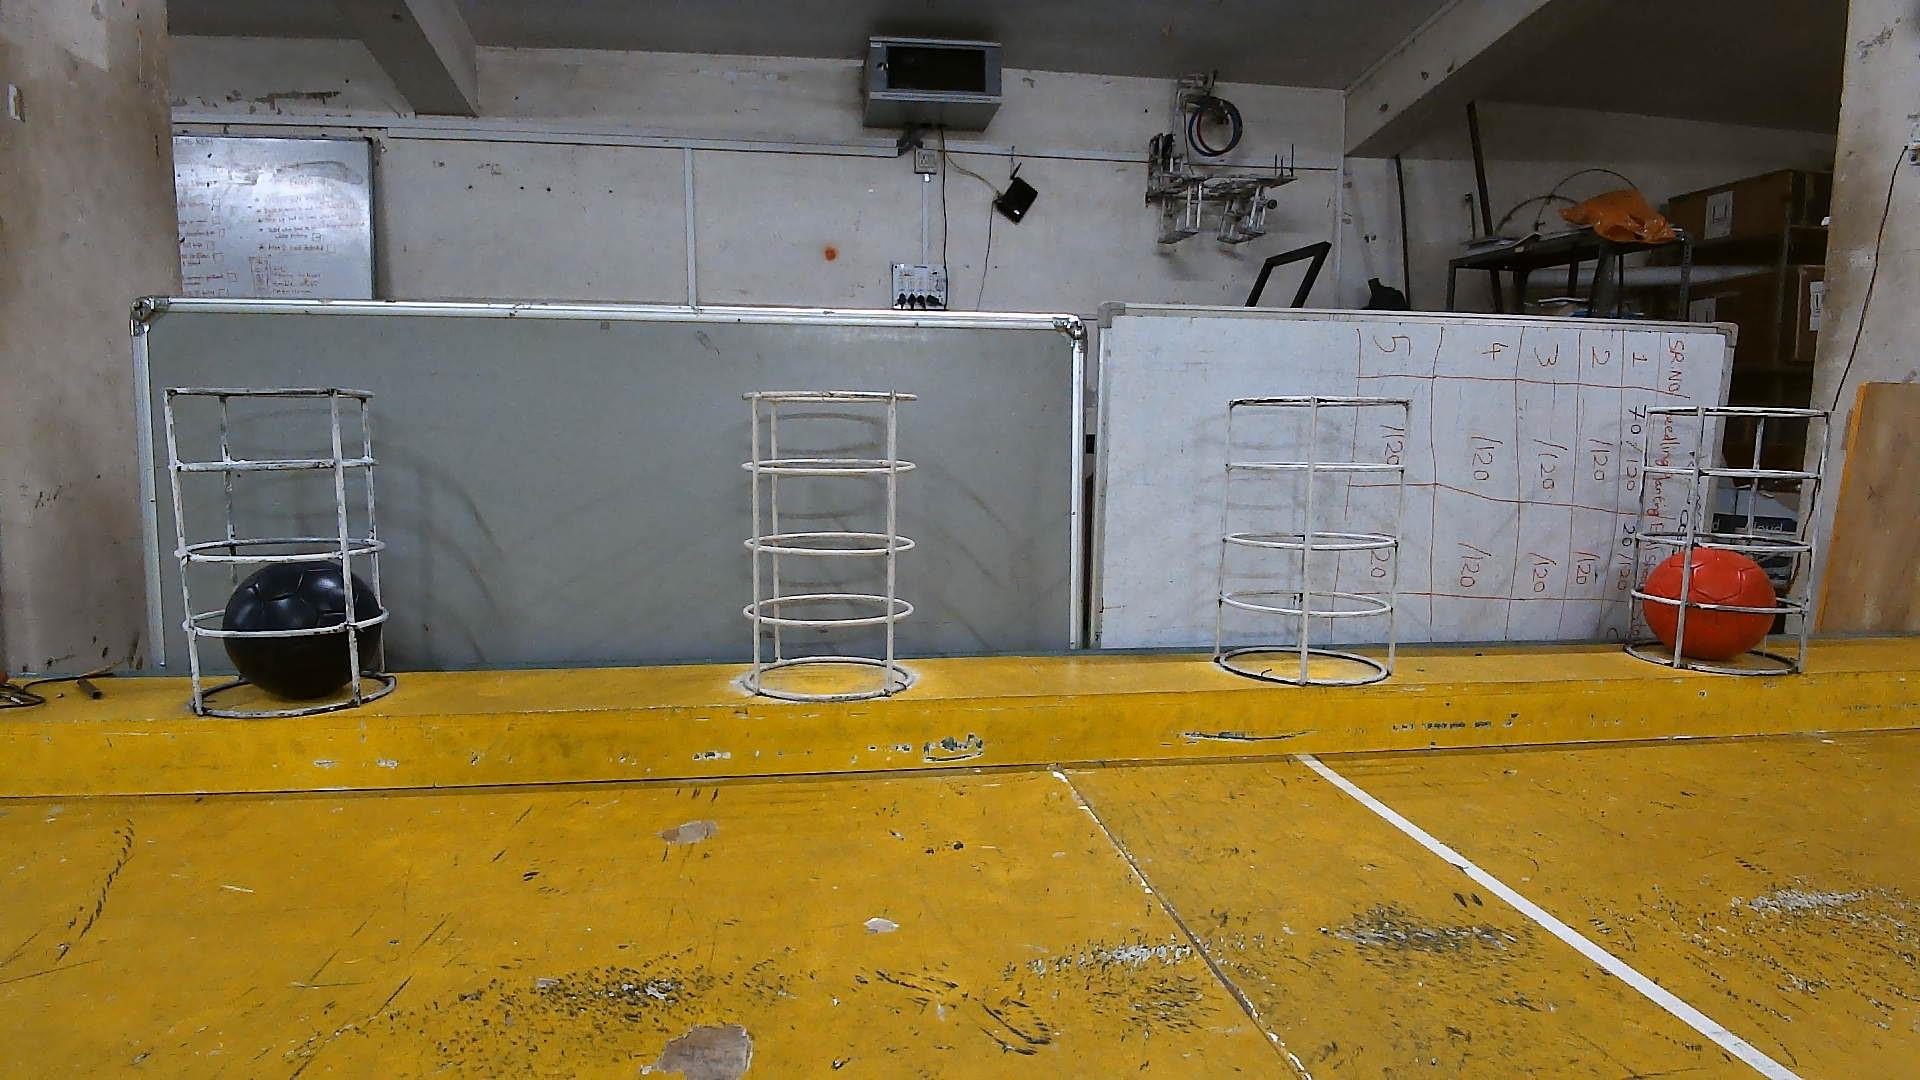dhoka: (222, 563, 382, 702)
laale: (1643, 547, 1778, 661)
